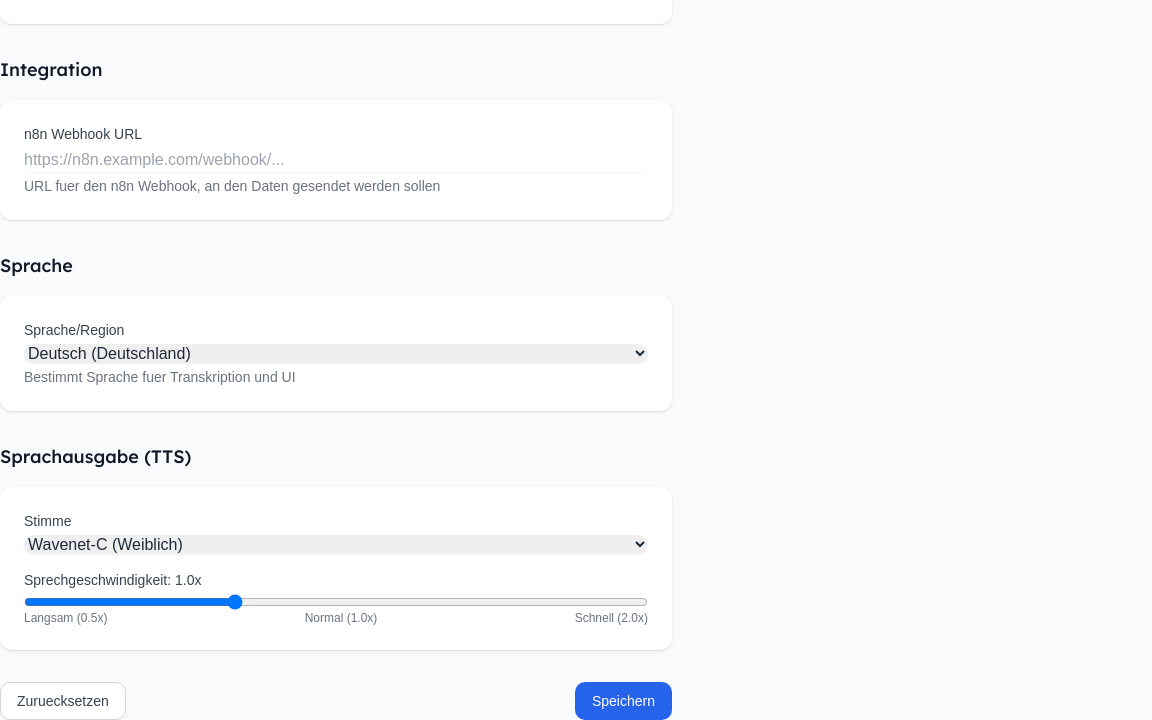
Settings Page › Reset Settings › should show confirmation dialog when clicking reset
(page scrolled)
Step 1. Click the button "Zuruecksetzen" → {"x": 63, "y": 701}, box left=0, top=682, right=126, bottom=719
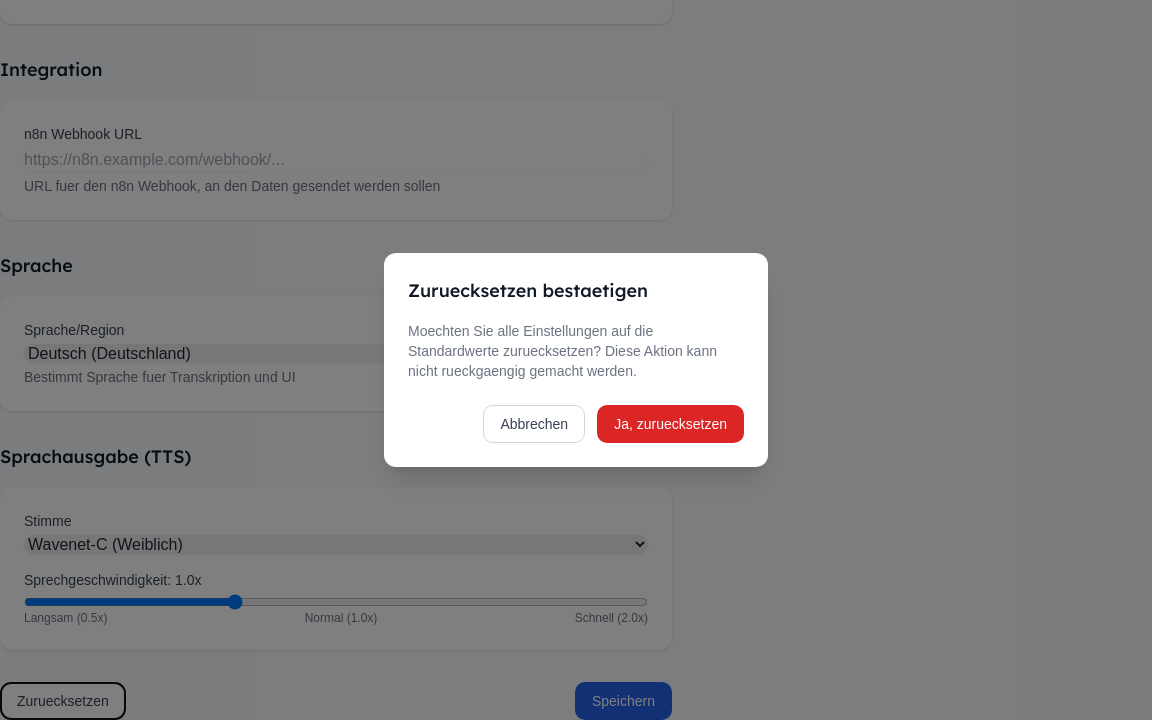
Now the heading "Zuruecksetzen bestaetigen" is shown, box left=408, top=279, right=648, bottom=302
